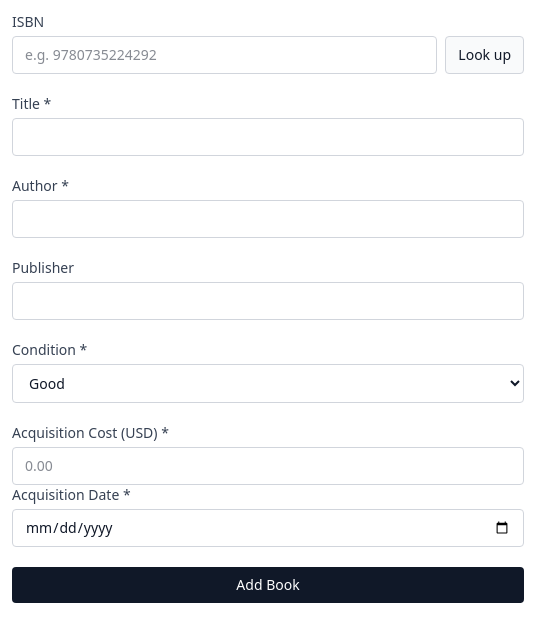
Scenario: AddBookForm › clears a checksum error once the ISBN is corrected to a checksum-valid value
In the field with placeholder "e.g. 9780735224292": coordinates (225, 55) [12,36,437,74], type "0306406156"
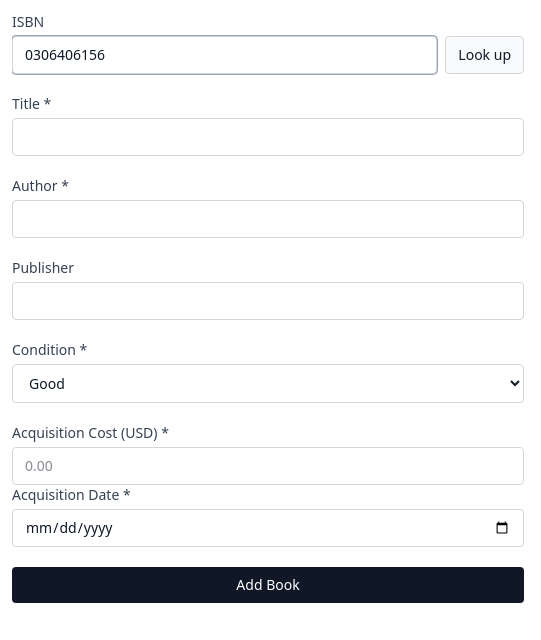
Click the button "Look up": coordinates (485, 55) [445,36,524,74]
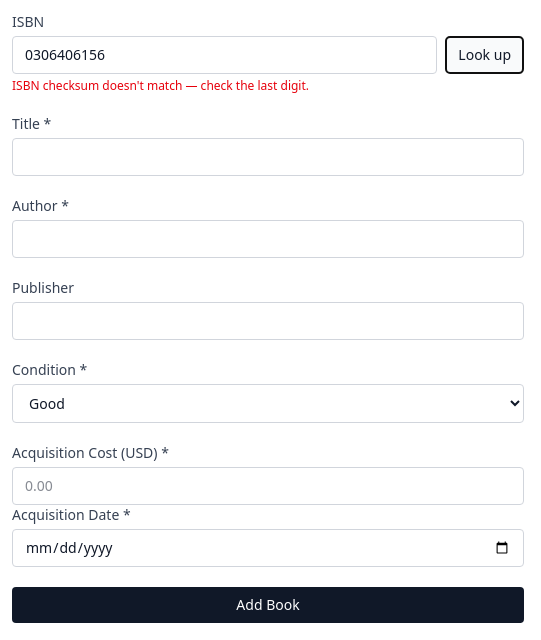
expect the text "ISBN checksum doesn't match — check the last digit." is shown: met, box [12,77,309,94]
Replace the text in the 1st field with "0306406152": coordinates (225, 55) [12,36,437,74]
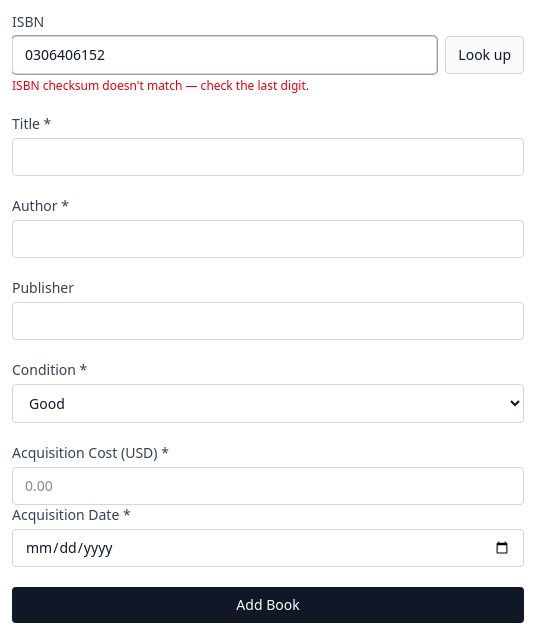
Click the button "Look up": coordinates (485, 55) [445,36,524,74]
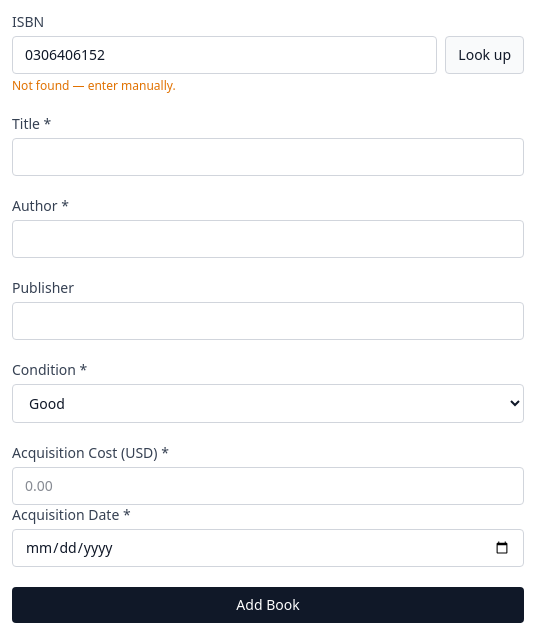
expect the text "ISBN checksum doesn't match — check the last digit." is gone: met
expect the text "Not found — enter manually." is shown: met, box [12,77,176,94]
